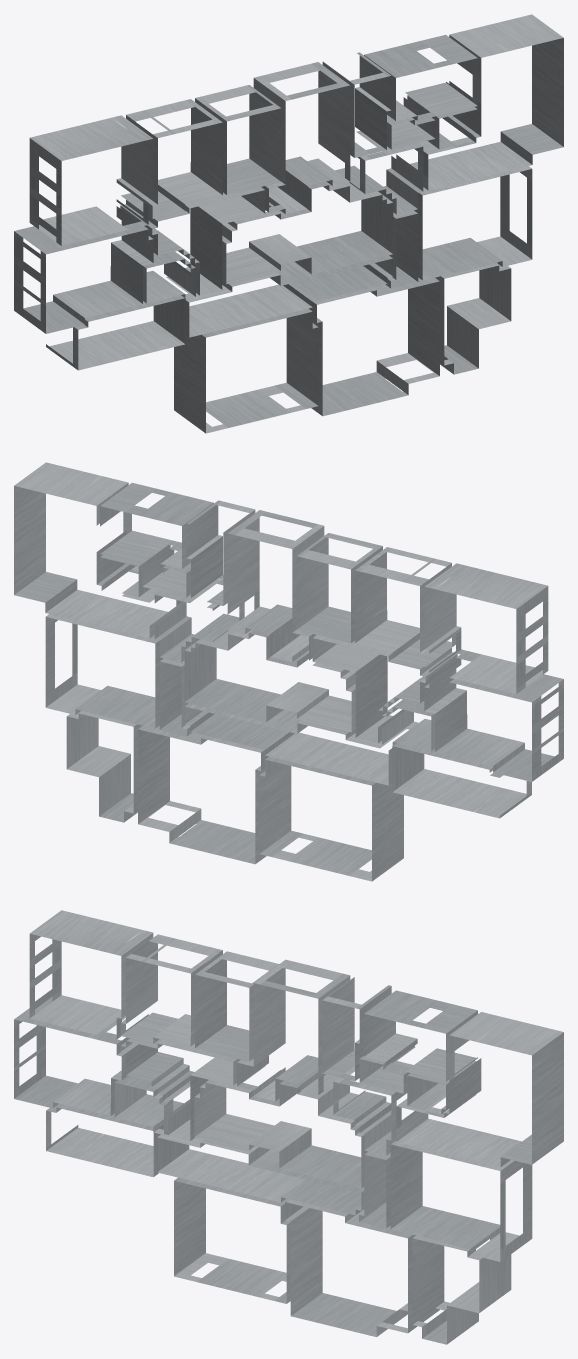
File: wall.obj
3 renders of one model, top to bottom at view 1: azimuth 30°, elevation 25°; view 2: azimuth 150°, elevation 25°; view 3: azimuth 330°, elevation 25°, orthographic.
Visible parts, largest first — view 1: scene3_wall; view 2: scene3_wall; view 3: scene3_wall.
Part boxes in pixels (x1=…): scene3_wall: x1=14, y1=14, x2=563, y2=433; scene3_wall: x1=14, y1=462, x2=563, y2=881; scene3_wall: x1=14, y1=910, x2=563, y2=1344.
Size of the model in its own units: 22.41 by 13.41 by 2.4.
Materials: 1 (1 with a texture image).
